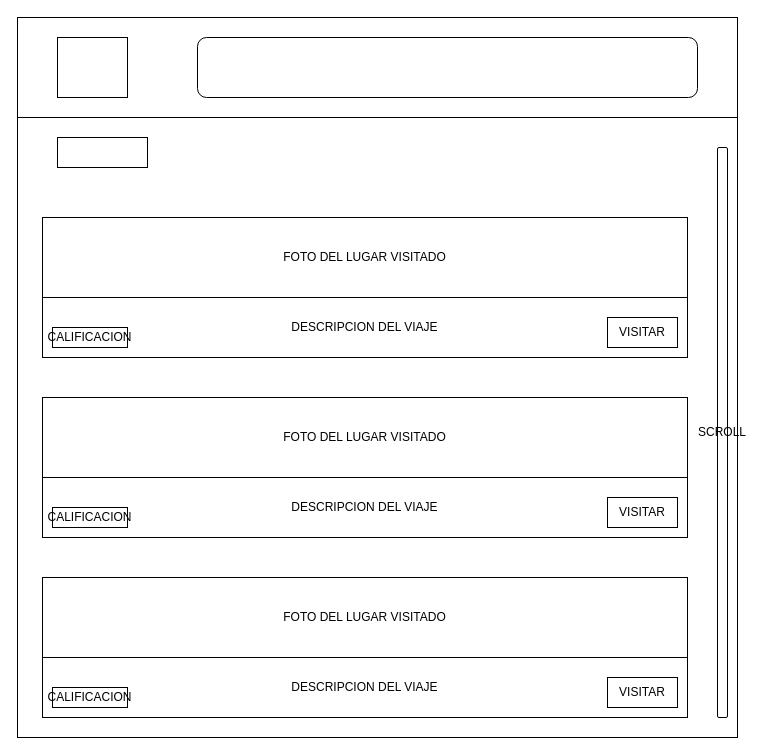
This 764x755 diagram has some shape labels left out. Each missing label, with the box of its shape:
FILTROS: (56, 136, 148, 168)
LOGO: (56, 36, 128, 98)
MENU DE NAVEGACIÓN: (196, 36, 698, 98)
